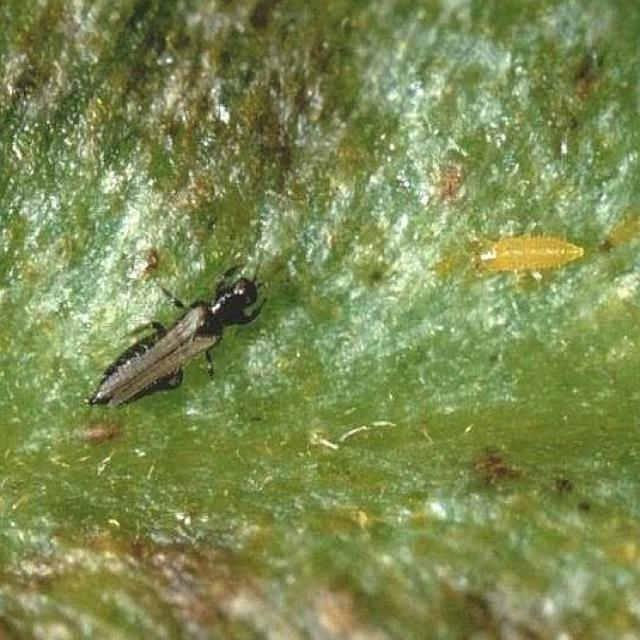Thrip-Adult-: (82, 248, 296, 417)
Thrip-Larva-: (457, 212, 596, 281)
